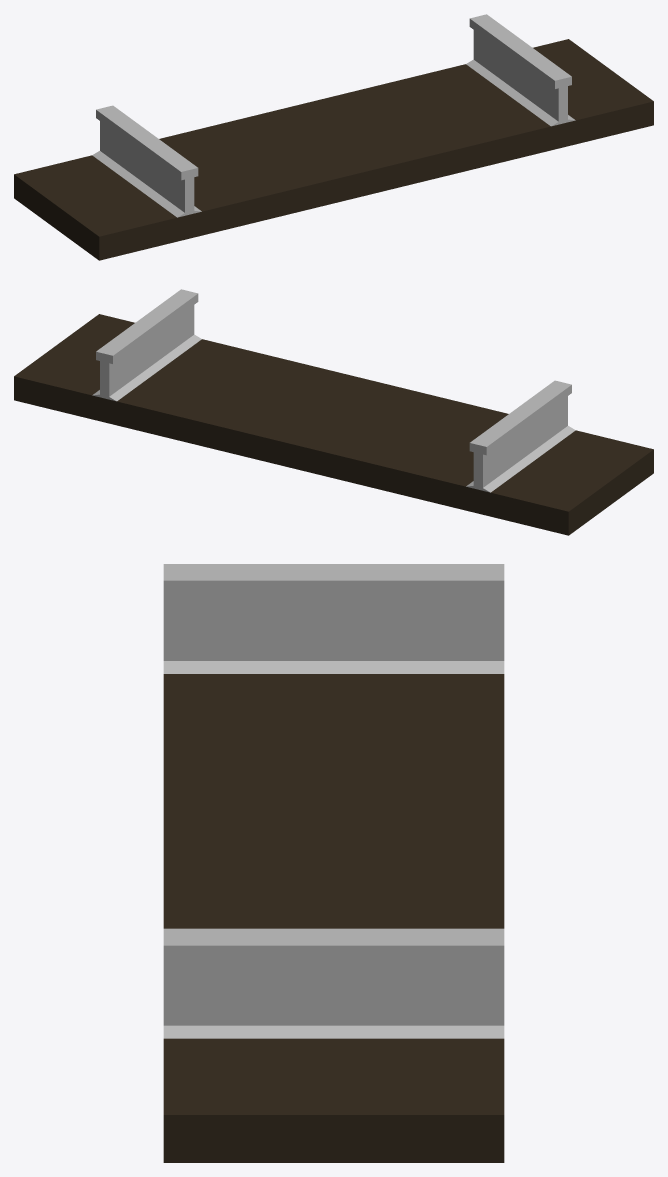
File: dc_metro_rail_1.obj
3 views of the same model, one above another, from view 1: azimuth 30°, elevation 25°; view 2: azimuth 150°, elevation 25°; view 3: azimuth 270°, elevation 25° (orthographic). The views are drawn at different scales.
Visible parts, largest first — view 1: cube; view 2: cube; view 3: cube.
Part boxes in pixels (left/top/right/bottom): cube: left=14, top=14, right=653, bottom=260; cube: left=14, top=289, right=653, bottom=535; cube: left=163, top=564, right=504, bottom=1162.
Size of the model in its own units: 2.23 by 0.2641 by 0.5938.
2 materials, 2 textured.
